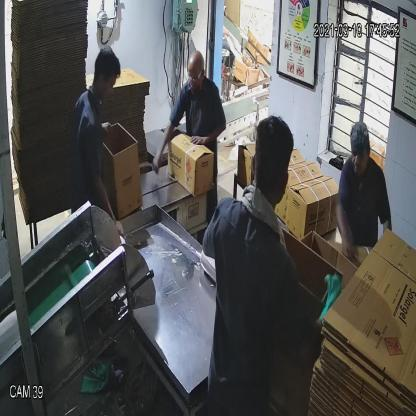no_glove: (144, 115, 179, 181), (89, 172, 118, 233), (331, 204, 357, 269), (190, 118, 233, 156)
